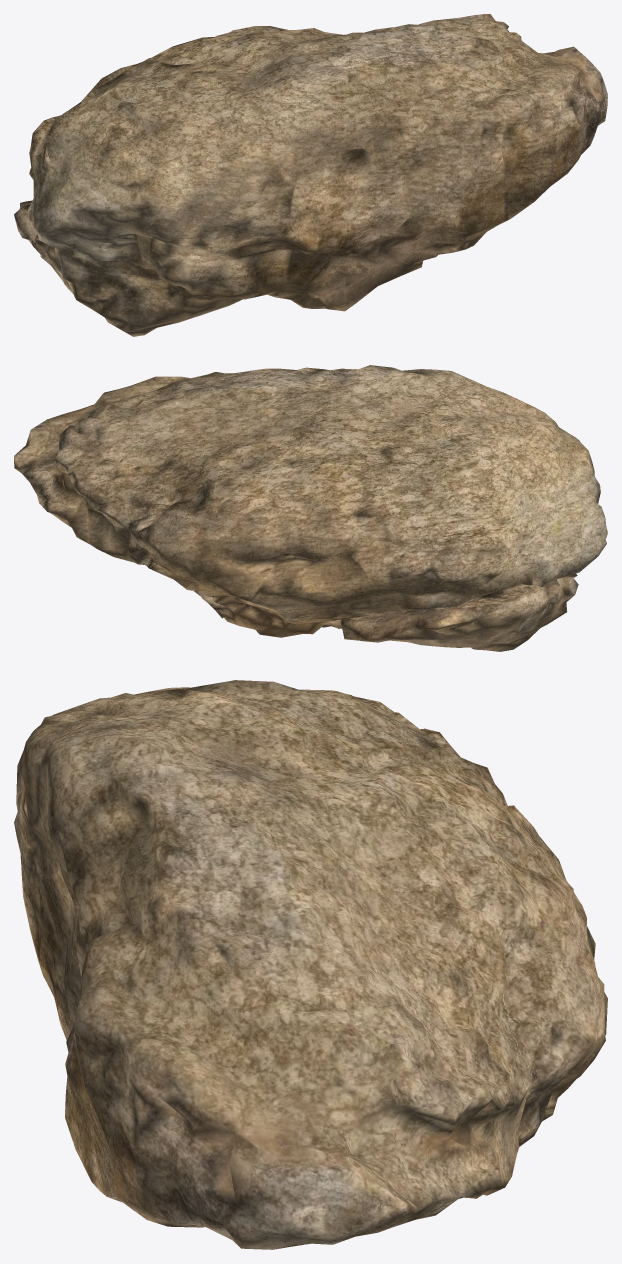
Rendered from boulder-d.glb.
3 views of the same model, one above another, from view 1: azimuth 30°, elevation 25°; view 2: azimuth 150°, elevation 25°; view 3: azimuth 270°, elevation 25° (orthographic). The views are drawn at different scales.
Visible parts, largest first — view 1: namaqualand_boulder_05; view 2: namaqualand_boulder_05; view 3: namaqualand_boulder_05.
Boxes of the visible parts, x1=… form: namaqualand_boulder_05: x1=14, y1=14, x2=607, y2=336; namaqualand_boulder_05: x1=14, y1=365, x2=607, y2=651; namaqualand_boulder_05: x1=14, y1=680, x2=607, y2=1249.
Size of the model in its own units: 1.36 by 0.5337 by 0.7462.
1 material, 1 textured.
